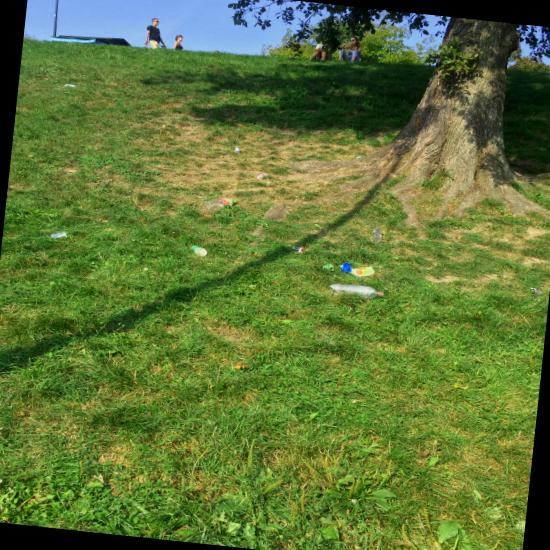Clear plastic bottle: (329, 284, 384, 298), (204, 199, 237, 210), (257, 173, 268, 179)
Drink can: (235, 148, 240, 154)
Drink carton: (340, 262, 375, 277)
Glass bottle: (373, 226, 382, 242)
Other plastic: (298, 247, 309, 252)
Paper cup: (191, 246, 207, 256)
Unlabeled litter: (530, 288, 543, 295), (323, 264, 333, 269), (63, 84, 76, 87), (292, 247, 300, 251), (356, 157, 362, 159)
